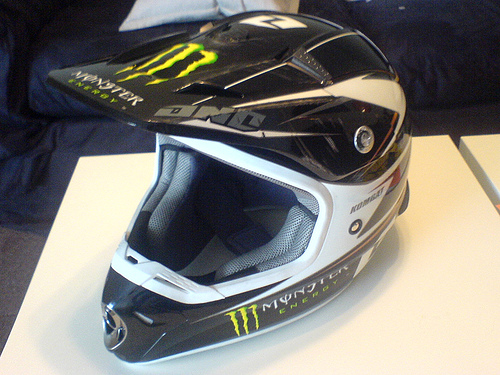helmet: (115, 19, 396, 312)
